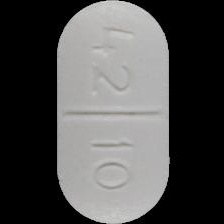61786-805: (0, 0, 224, 224)
